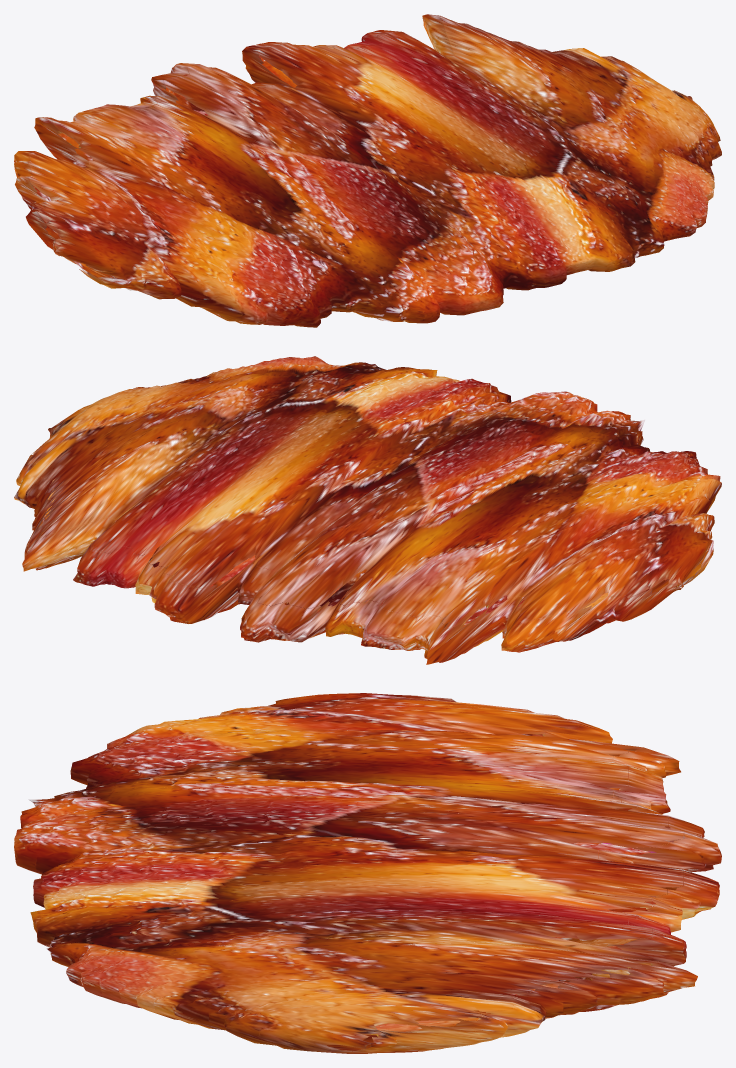
Rendered from whisky-bacon.glb.
The picture shows the model from 3 angles, top to bottom: view 1: azimuth 30°, elevation 25°; view 2: azimuth 150°, elevation 25°; view 3: azimuth 270°, elevation 25°; orthographic projection. The views are drawn at different scales.
Visible parts, largest first — view 1: whisky-bacon; view 2: whisky-bacon; view 3: whisky-bacon.
Boxes of the visible parts, x1,y1,x2,y2 form: whisky-bacon: (14, 14, 721, 327); whisky-bacon: (14, 356, 721, 664); whisky-bacon: (14, 693, 721, 1053).
Size of the model in its own units: 0.88 by 0.09 by 0.76.
Materials: 1 (1 with a texture image).
